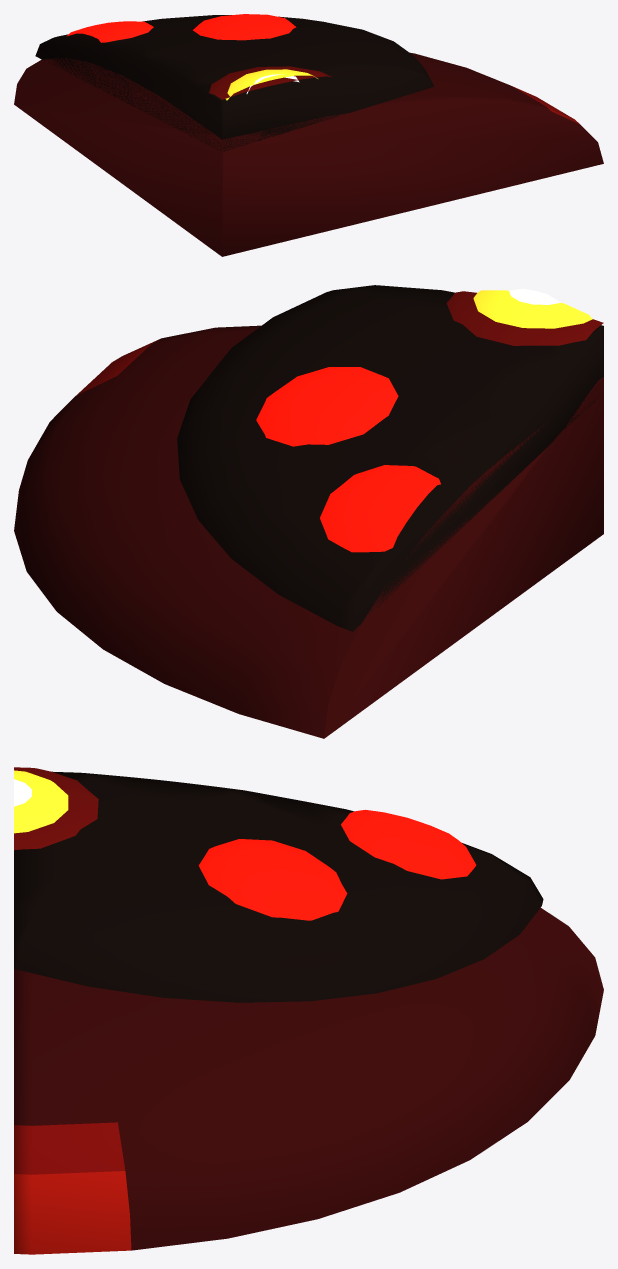
File: newshe-193.glb
3 views of the same model, one above another, from view 1: azimuth 30°, elevation 25°; view 2: azimuth 150°, elevation 25°; view 3: azimuth 270°, elevation 25° (orthographic). The views are drawn at different scales.
Visible parts, largest first — view 1: newshe-193; view 2: newshe-193; view 3: newshe-193.
Part boxes in pixels (box(x1,y1,x2,y2)): newshe-193: box(14, 14, 603, 256); newshe-193: box(14, 285, 603, 738); newshe-193: box(14, 767, 603, 1254).
Bounding box in the file's own units: 1.43 × 0.6024 × 1.35.
